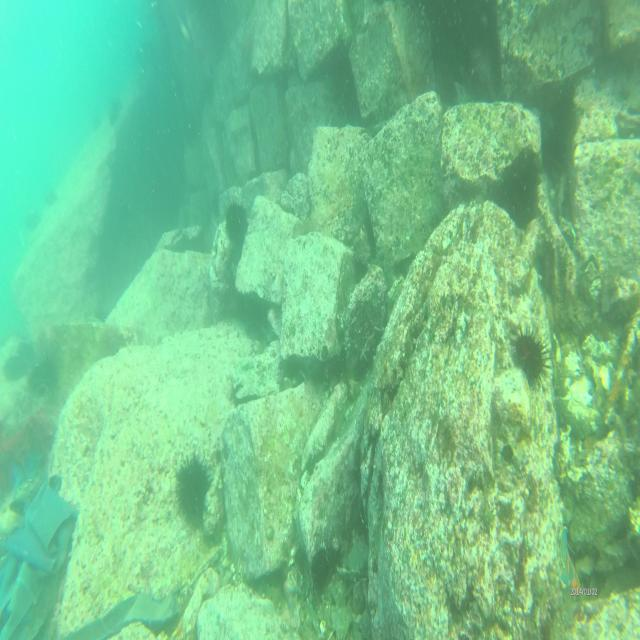echinus: (506, 320, 551, 390), (173, 454, 215, 525), (305, 532, 336, 593), (220, 198, 250, 248)
starfish: (555, 523, 584, 601)
